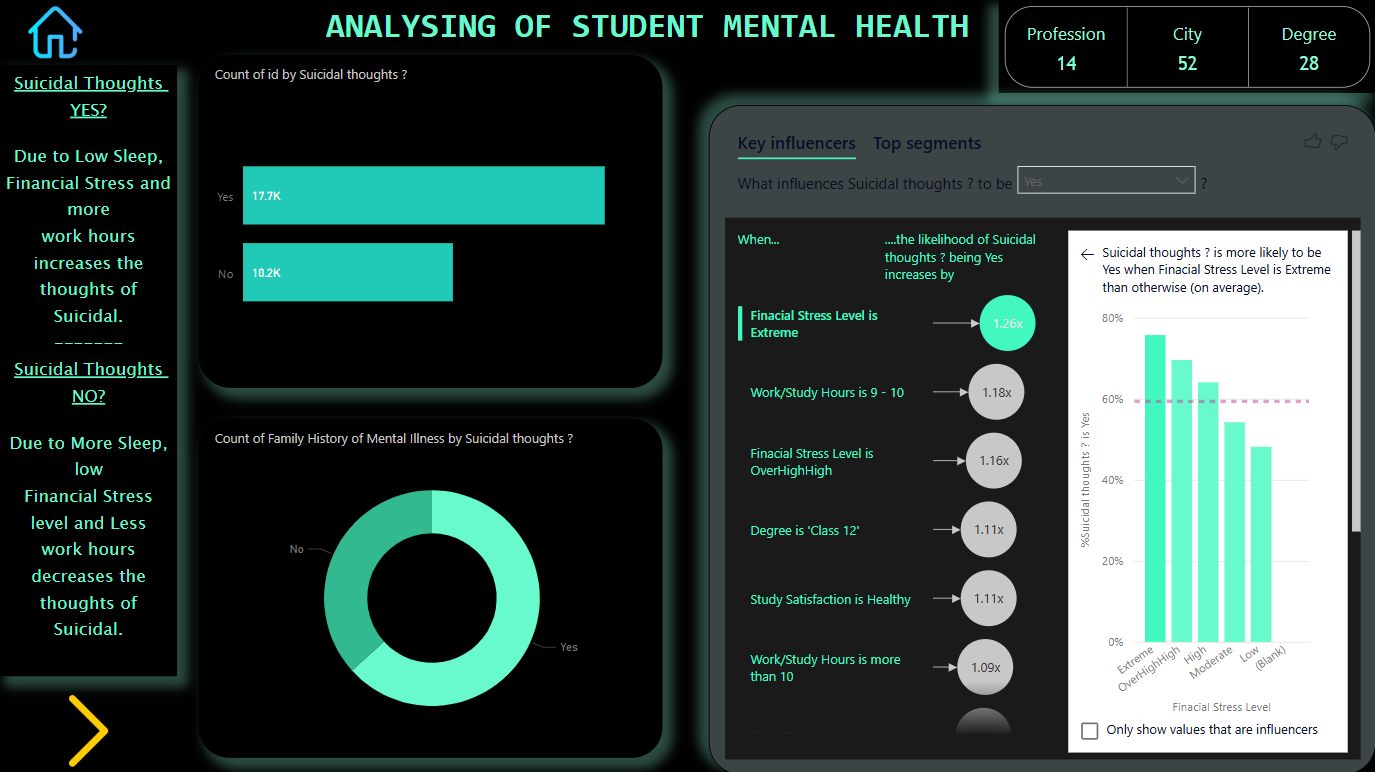

What the dashboard file says about the page in this screenshot:
{"tool":"powerbi","page":{"name":"Suicidal Thoughts","canvas":[1280,720],"ordinal":0},"visuals":[{"type":"cardVisual","fields":{"Data":["Count(student_depression_dataset.Profession)","Count(student_depression_dataset.City)","Count(student_depression_dataset.Degree)"]},"box":[929.2,0,350.8,86],"z":0},{"type":"textbox","box":[291.9,0,620.9,51.2],"z":1000},{"type":"keyDriversVisual","fields":{"Target":["student_depression_dataset.Suicidal thoughts ?"],"ExplainBy":["student_depression_dataset.Sleep Duration","student_depression_dataset.Degree","student_depression_dataset.Study Satisfaction","student_depression_dataset.Work/Study Hours","student_depression_dataset.Finacial Stress Level"]},"box":[659.3,97.7,620.9,623.3],"z":2000},{"type":"textbox","box":[0,60.4,164.7,568.9],"z":3000},{"type":"donutChart","fields":{"Y":["CountNonNull(student_depression_dataset.Family History of Mental Illness)"],"Category":["student_depression_dataset.Suicidal thoughts ?"]},"box":[184.9,389.9,431.4,315.3],"z":4000},{"type":"clusteredBarChart","fields":{"Category":["student_depression_dataset.Suicidal thoughts ?"],"Y":["CountNonNull(student_depression_dataset.id)"]},"box":[184.9,51.2,431.4,309.3],"z":5000},{"type":"image","box":[4.7,0,94.2,60.5],"z":6000},{"type":"image","box":[0,641.1,165.6,78.9],"z":7000}]}

Visuals, with their boxes in screenshot pixels (x1, y1, x2, y2), scaled from the page's 1280x720 canvas onto the 1375x772 screenshot:
cardVisual - Count(student_depression_dataset.Profession) x Count(student_depression_dataset.City): detection(998, 0, 1374, 92)
textbox: detection(314, 0, 981, 55)
keyDriversVisual - student_depression_dataset.Suicidal thoughts ? x student_depression_dataset.Sleep Duration: detection(708, 105, 1374, 771)
textbox: detection(0, 65, 177, 675)
donutChart - CountNonNull(student_depression_dataset.Family History of Mental Illness) x student_depression_dataset.Suicidal thoughts ?: detection(199, 418, 662, 756)
clusteredBarChart - student_depression_dataset.Suicidal thoughts ? x CountNonNull(student_depression_dataset.id): detection(199, 55, 662, 387)
image: detection(5, 0, 106, 65)
image: detection(0, 687, 178, 771)
